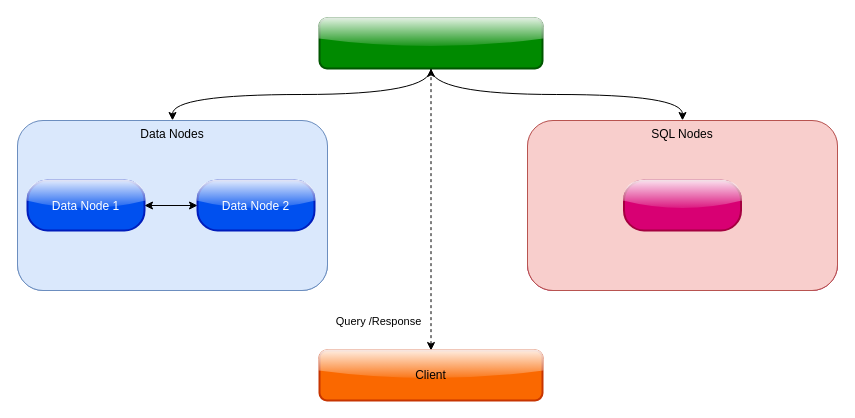
Some shapes in this 855 by 418 pixel diagram are drawn without their labels. Each missing label, with the box of its shape:
Management Node: (318, 17, 543, 69)
SQL Node: (622, 179, 742, 231)
